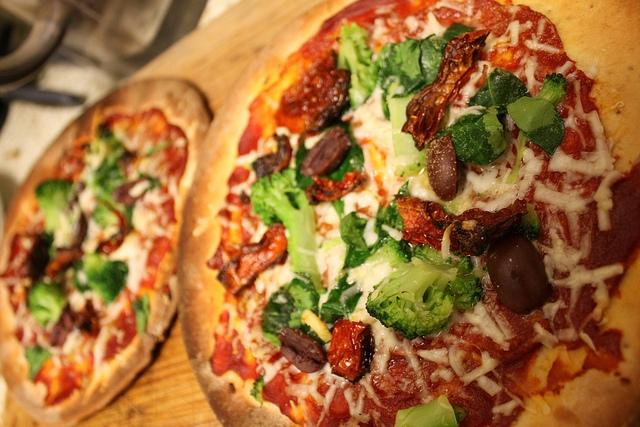broccoli: (252, 169, 326, 293), (365, 256, 458, 340), (346, 236, 413, 311), (259, 278, 320, 346), (338, 22, 378, 110), (84, 253, 130, 305), (394, 394, 460, 427), (28, 280, 68, 327), (95, 124, 126, 182), (35, 178, 74, 212), (132, 291, 152, 337), (96, 165, 125, 196), (25, 347, 51, 380), (520, 202, 540, 240), (93, 204, 120, 229)
